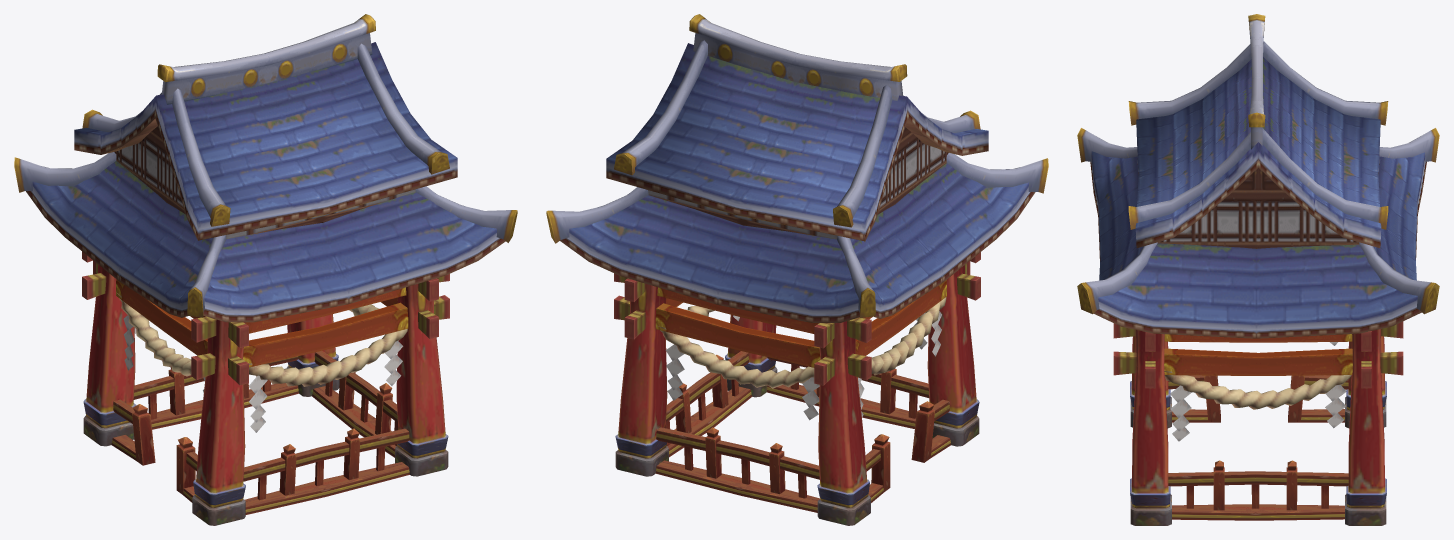
Rendered from shrine_jz001_07.FBX.
3 renders of one model, left to right at view 1: azimuth 30°, elevation 25°; view 2: azimuth 150°, elevation 25°; view 3: azimuth 270°, elevation 25°, orthographic.
Visible parts, largest first — view 1: shrine_jz001_07; view 2: shrine_jz001_07; view 3: shrine_jz001_07.
Part boxes in pixels (<box>): shrine_jz001_07: <box>14,14,517,525</box>; shrine_jz001_07: <box>546,14,1048,525</box>; shrine_jz001_07: <box>1077,14,1439,525</box>.
Size of the model in its own units: 545 by 648 by 526.
Materials: 2 (2 with a texture image).
